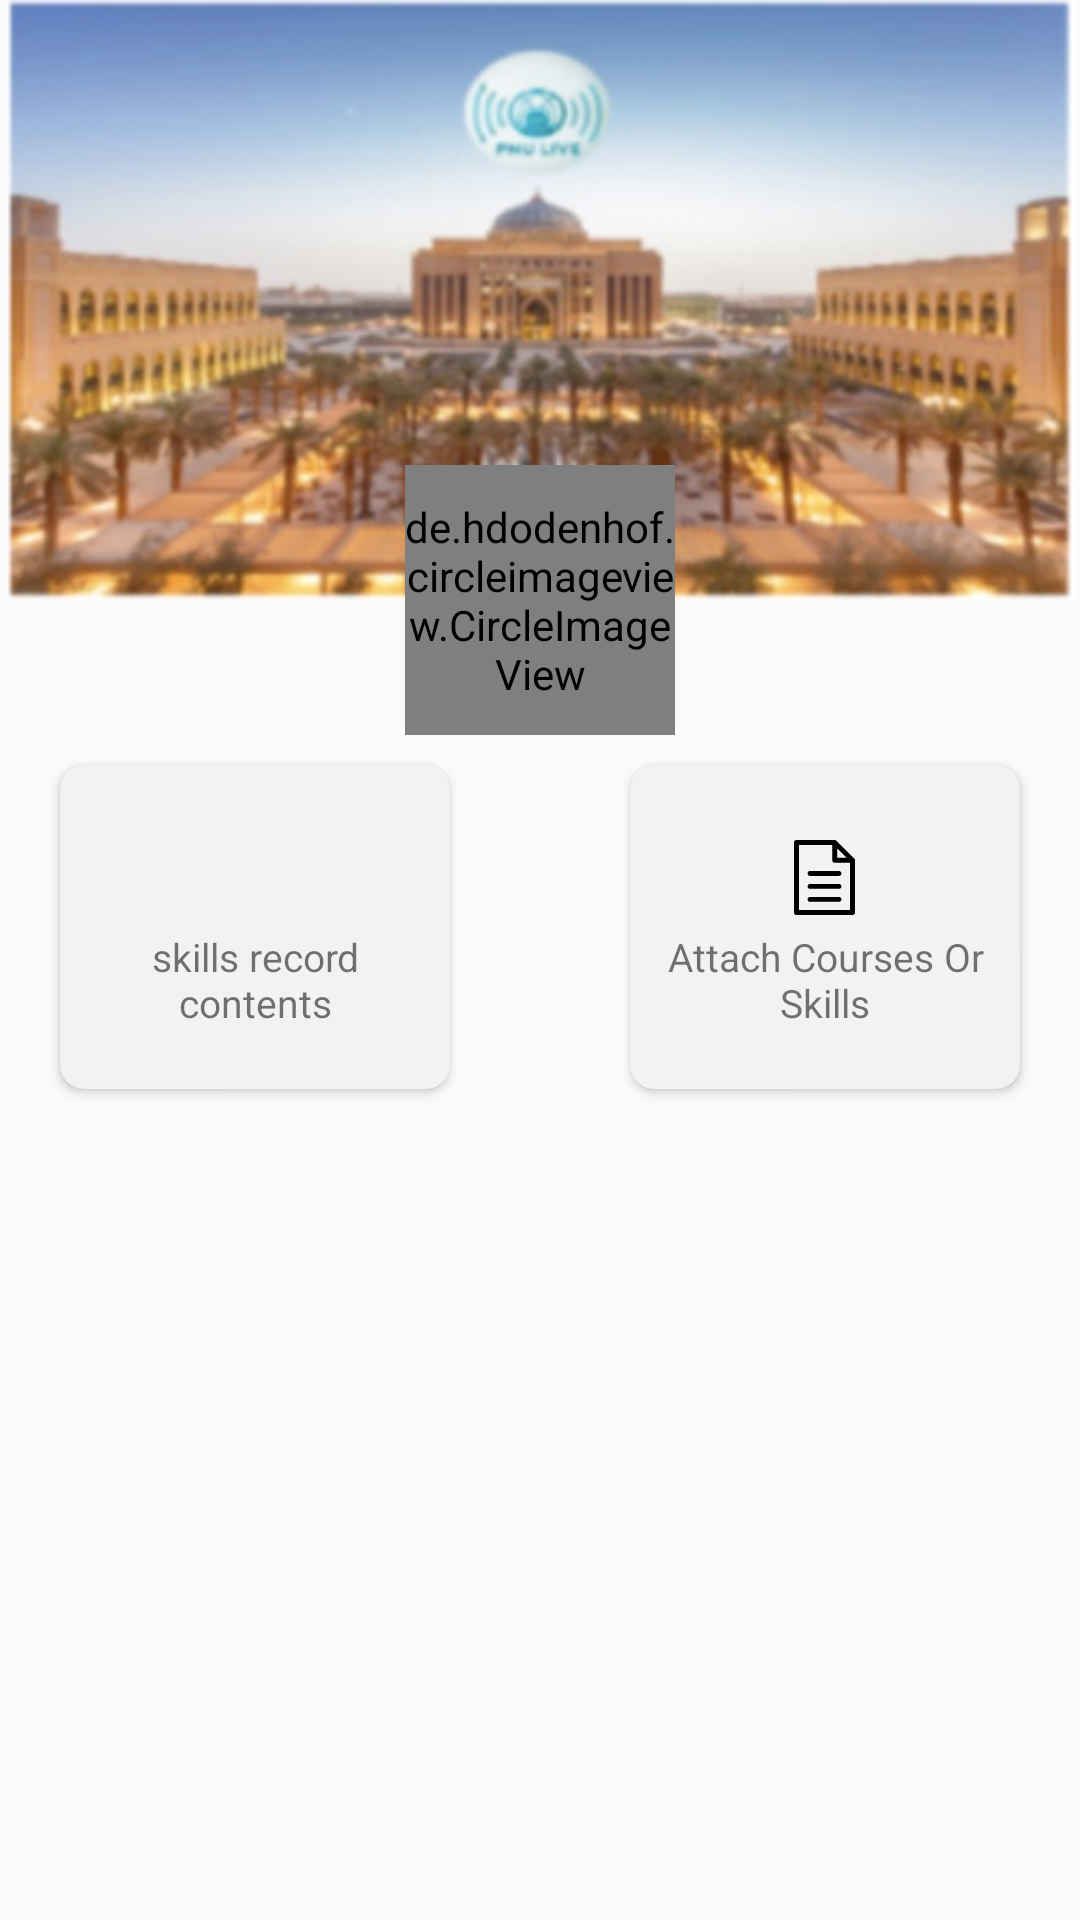

Named icons in this screenshot (1080px x 1920px) and their bounding boxes, BBox(x1, y1, x2, y2):
sheet: BBox(794, 840, 855, 915)
